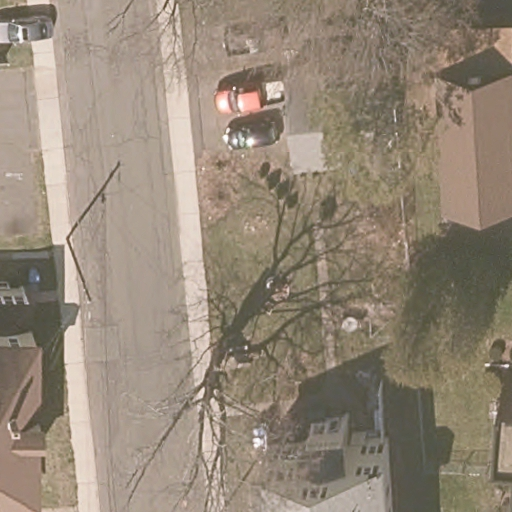DT: (66, 236, 97, 321)
